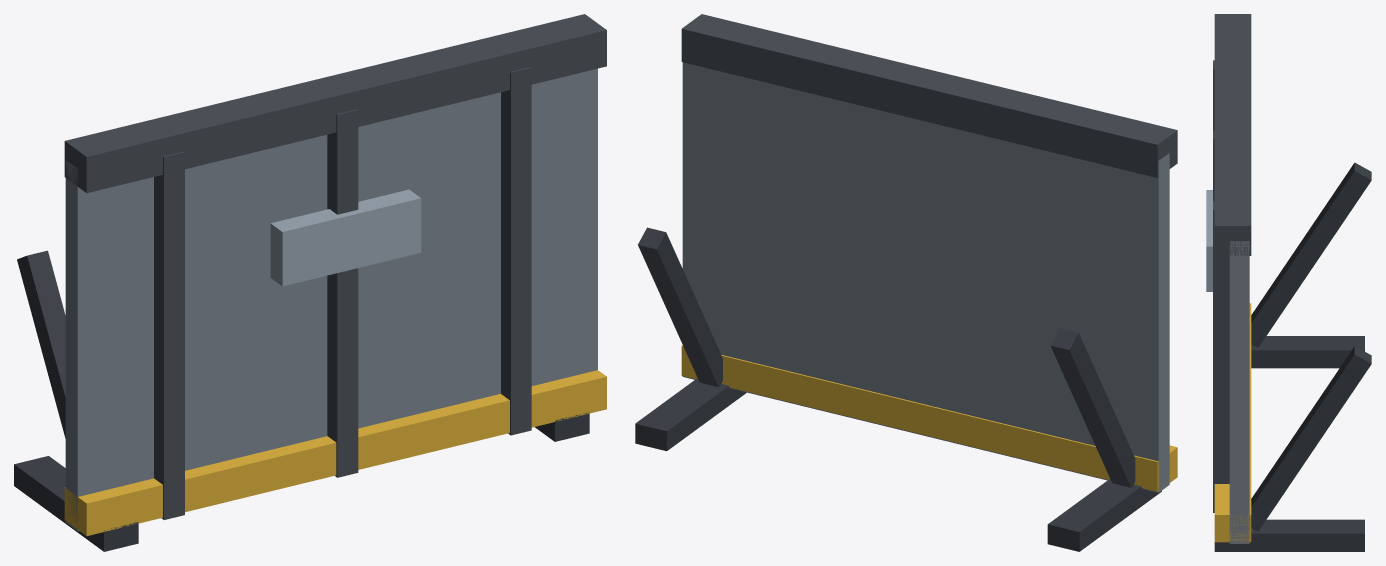
File: coverwall.glb
3 renders of one model, left to right at view 1: azimuth 30°, elevation 25°; view 2: azimuth 150°, elevation 25°; view 3: azimuth 270°, elevation 25°, orthographic. The views are drawn at different scales.
Parts seen in each view (by area): view 1: CoverWall; view 2: CoverWall; view 3: CoverWall.
Part boxes in pixels (x1,y1,x2,y2): CoverWall: (14,14,606,551); CoverWall: (635,14,1177,551); CoverWall: (1206,14,1371,551).
Size of the model in its own units: 0.3 by 0.22 by 0.0991.
